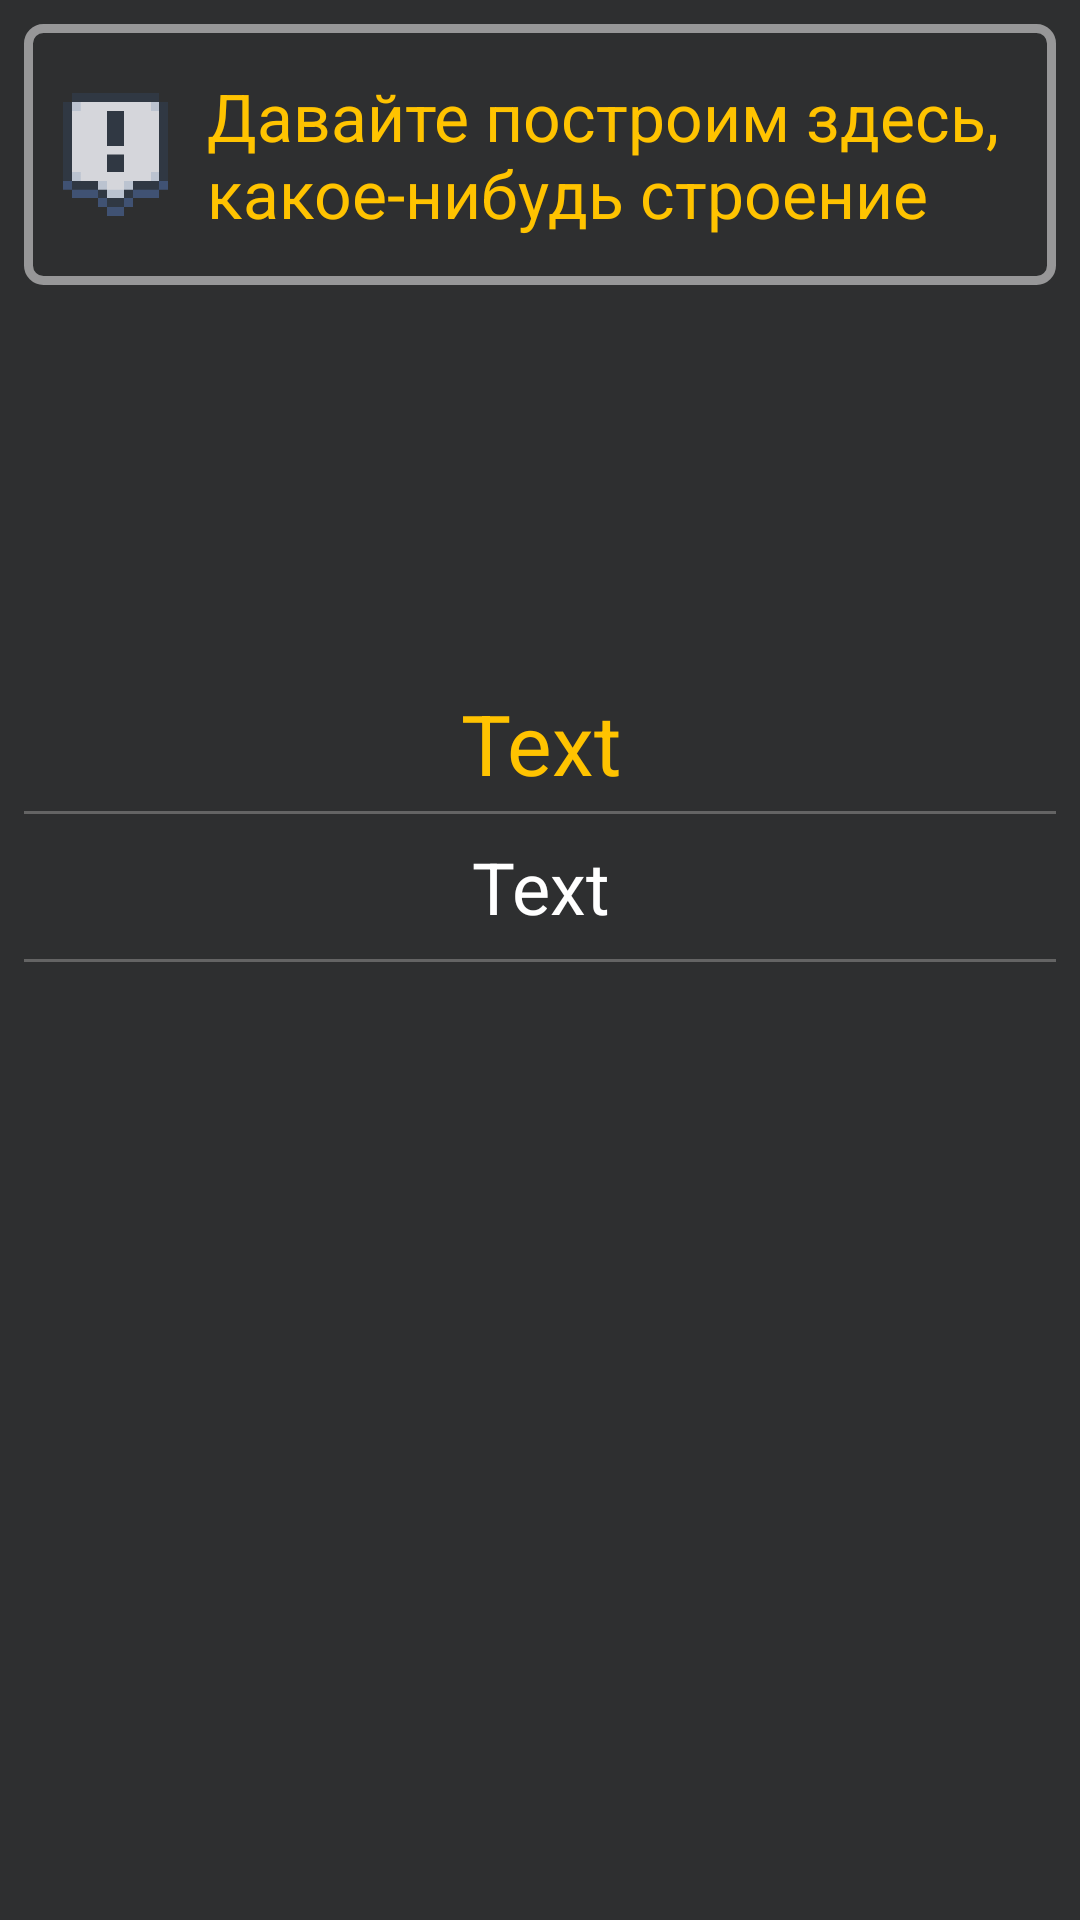

Where icons sit on this 1080*1920 app screen, as rect(x1, y1, x2, y2):
warning: rect(63, 102, 168, 216)
